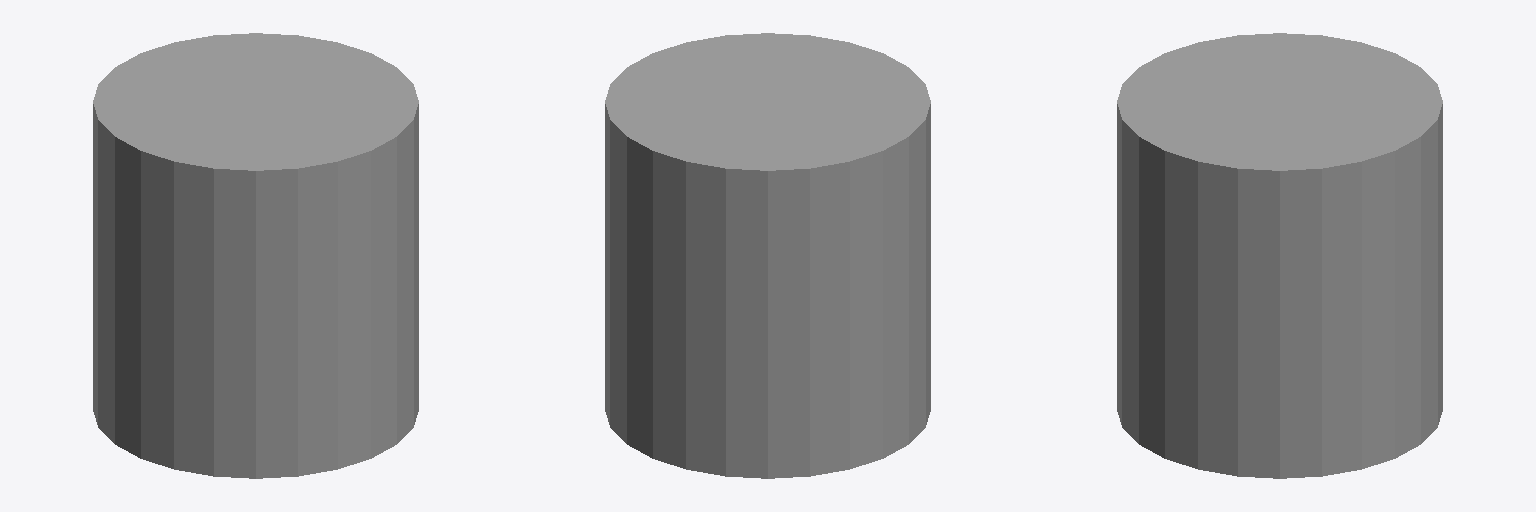
3 renders of one model, left to right at view 1: azimuth 30°, elevation 25°; view 2: azimuth 150°, elevation 25°; view 3: azimuth 270°, elevation 25°, orthographic.
Visible parts, largest first — view 1: Non_subD; view 2: Non_subD; view 3: Non_subD.
Boxes of the visible parts, x1,y1,x2,y2 form: Non_subD: [93, 33, 418, 478]; Non_subD: [605, 33, 930, 478]; Non_subD: [1117, 33, 1442, 478].
Bounding box in the file's own units: 4.22 × 4.39 × 4.22.